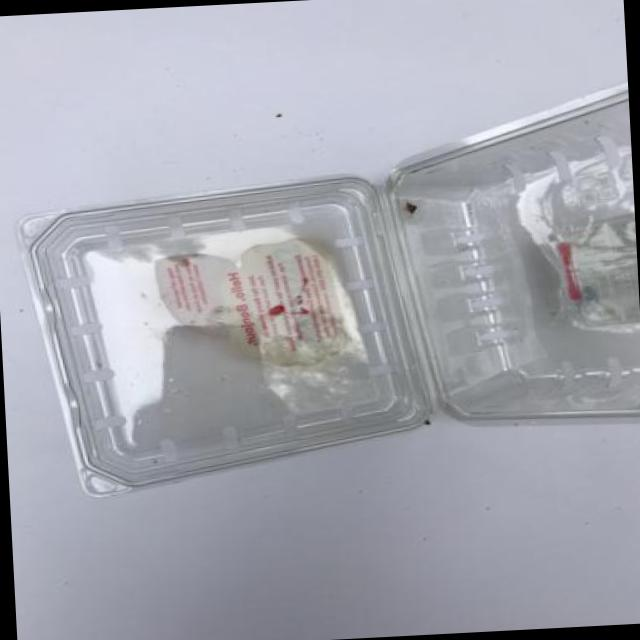Clamshell: (1, 73, 640, 508)
Label: (130, 221, 394, 418), (526, 218, 638, 319)
